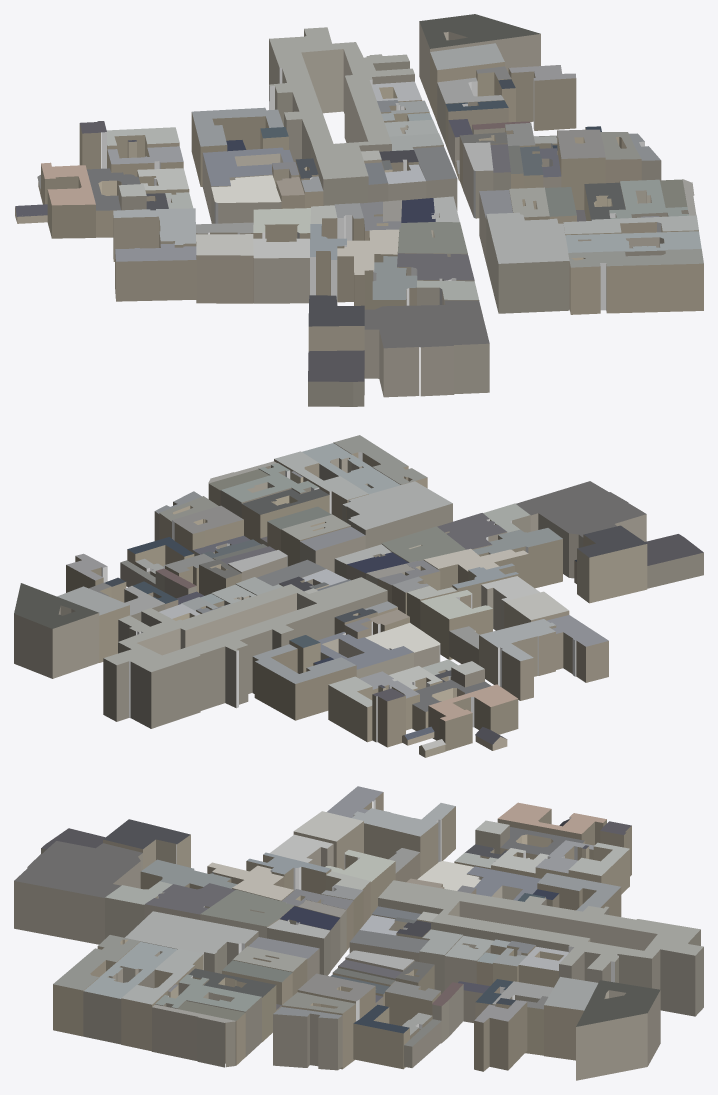
3 renders of one model, top to bottom at view 1: azimuth 30°, elevation 25°; view 2: azimuth 150°, elevation 25°; view 3: azimuth 270°, elevation 25°, orthographic. The views are drawn at different scales.
Parts seen in each view (by area): view 1: tuile; view 2: tuile; view 3: tuile.
Boxes of the visible parts, bbox=[...] form: tuile: bbox=[15, 14, 703, 406]; tuile: bbox=[14, 435, 703, 757]; tuile: bbox=[14, 786, 703, 1080].
Bounding box in the file's own units: 275 × 31.71 × 314.
